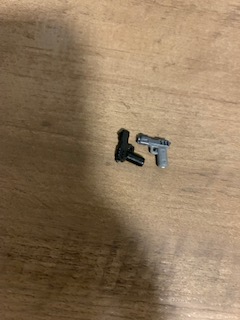pistol: (113, 127, 147, 171), (134, 130, 170, 170)
